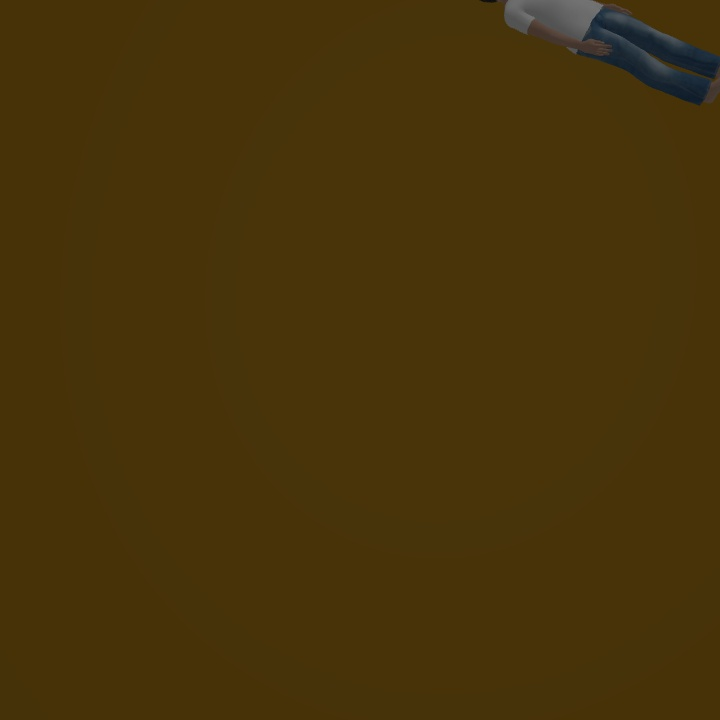victim: (487, 1, 715, 105)
